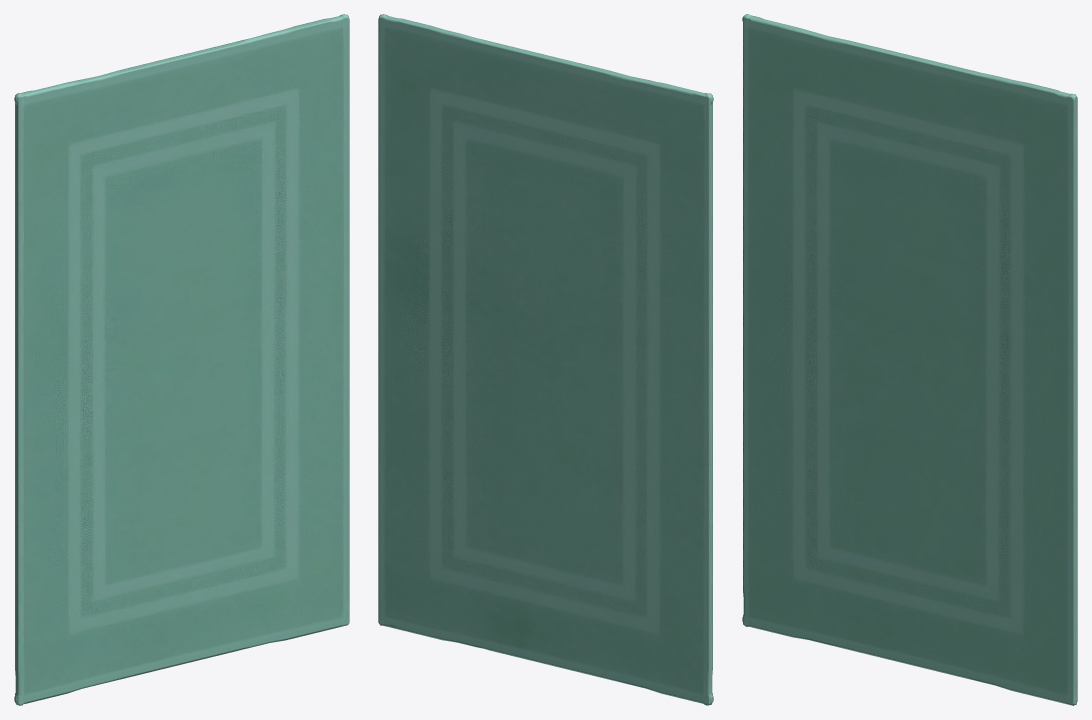
File: rug.glb
3 renders of one model, left to right at view 1: azimuth 30°, elevation 25°; view 2: azimuth 150°, elevation 25°; view 3: azimuth 330°, elevation 25°, orthographic.
Visible parts, largest first — view 1: Mesh_0; view 2: Mesh_0; view 3: Mesh_0.
Part boxes in pixels (x1=…): Mesh_0: x1=14, y1=14, x2=349, y2=705; Mesh_0: x1=378, y1=14, x2=713, y2=705; Mesh_0: x1=742, y1=14, x2=1077, y2=705.
Bounding box in the file's own units: 1.08 × 1.91 × 0.0195.
1 material, 1 textured.
